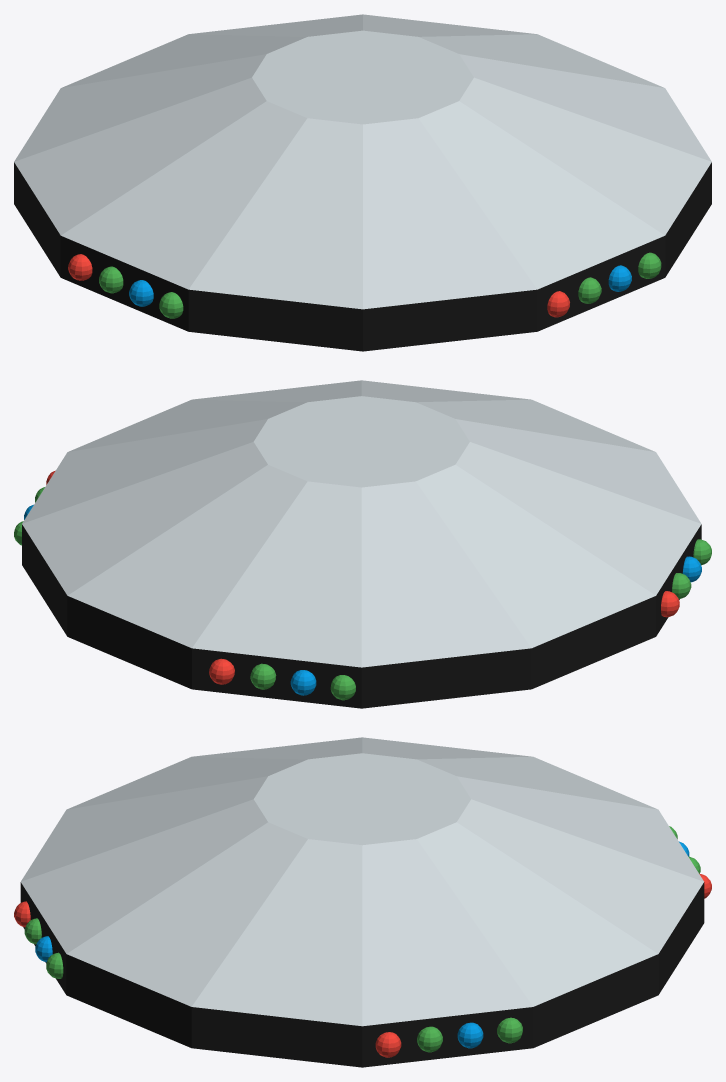
3 views of the same model, one above another, from view 1: azimuth 30°, elevation 25°; view 2: azimuth 150°, elevation 25°; view 3: azimuth 270°, elevation 25° (orthographic). The views are drawn at different scales.
Parts seen in each view (by area): view 1: mesh_1736812437, mesh_1743568950; view 2: mesh_1736812437, mesh_1556638149, mesh_1631139717, mesh_276839613, mesh_74314499; view 3: mesh_1736812437, mesh_540346076, mesh_1270588769, mesh_277024329, mesh_1293406121.
Boxes of the visible parts, x1,y1,x2,y2 form: mesh_1736812437: [14, 14, 711, 351]; mesh_1743568950: [99, 266, 123, 293]; mesh_1736812437: [22, 380, 701, 708]; mesh_1556638149: [209, 658, 234, 684]; mesh_1631139717: [290, 670, 316, 695]; mesh_276839613: [250, 663, 276, 689]; mesh_74314499: [330, 675, 355, 700]; mesh_1736812437: [20, 737, 704, 1067]; mesh_540346076: [457, 1022, 483, 1048]; mesh_1270588769: [417, 1026, 442, 1052]; mesh_277024329: [375, 1032, 401, 1057]; mesh_1293406121: [497, 1017, 522, 1043].
Size of the model in its own units: 52.8 by 14.95 by 52.73.
